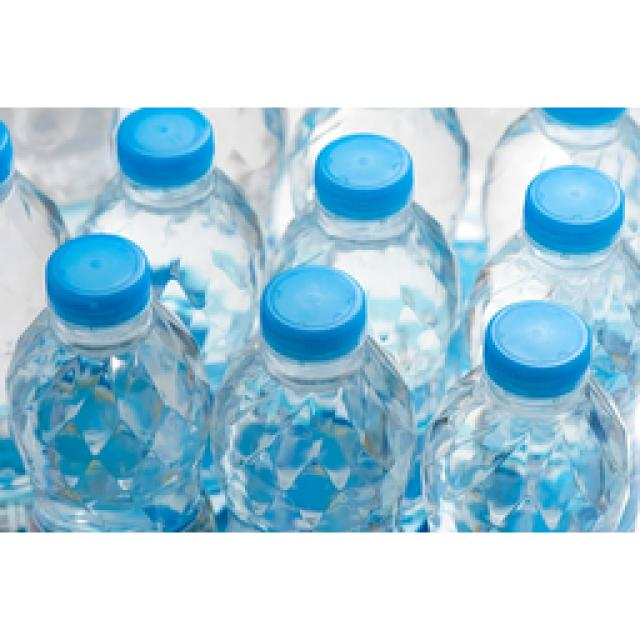plastic_water_bottles: (10, 227, 175, 483), (230, 262, 403, 498), (428, 293, 605, 500), (295, 124, 435, 258), (125, 110, 242, 248), (495, 163, 632, 280)
